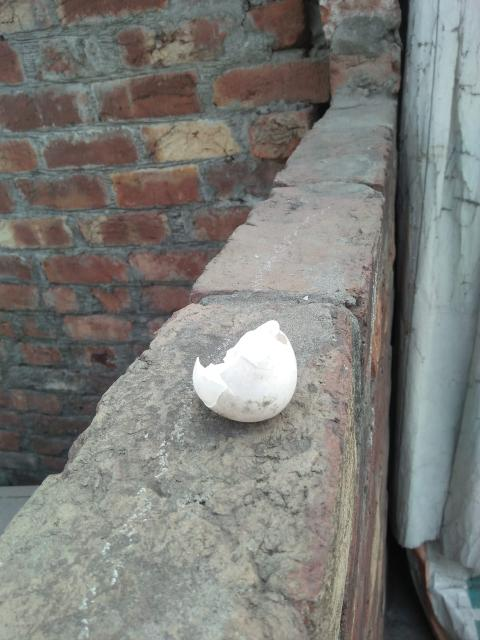Roto: (191, 318, 298, 423)
